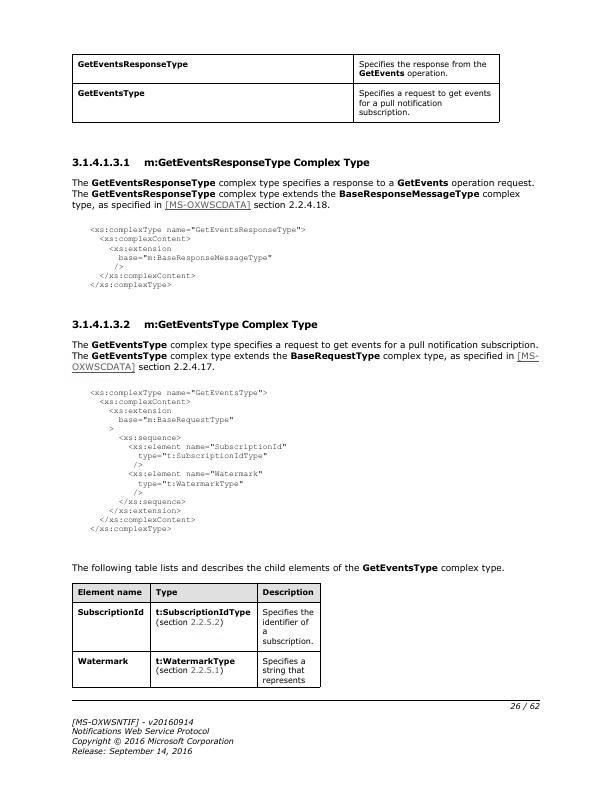table: (71, 50, 505, 127), (68, 581, 324, 692)
text: (81, 388, 292, 534), (68, 338, 540, 373), (67, 177, 538, 210), (86, 222, 309, 289), (67, 559, 507, 577), (70, 715, 240, 760), (67, 155, 371, 169), (67, 317, 319, 333)
